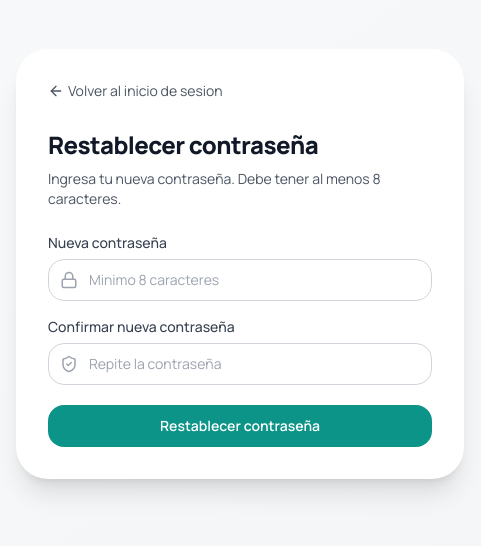
Test case: ResetPassword › valida que las contrasenas coincidan
Type "password1" into the password field labelled "Nueva contraseña" at x=240, y=280, box [48,259,432,301]
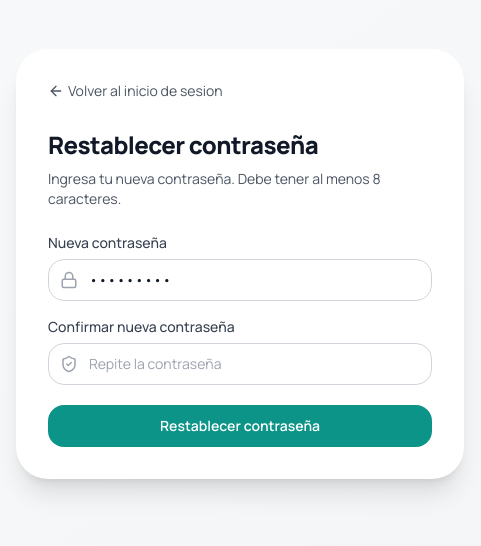
Type "password2" into the password field labelled "Confirmar nueva contraseña" at x=240, y=364, box [48,343,432,385]
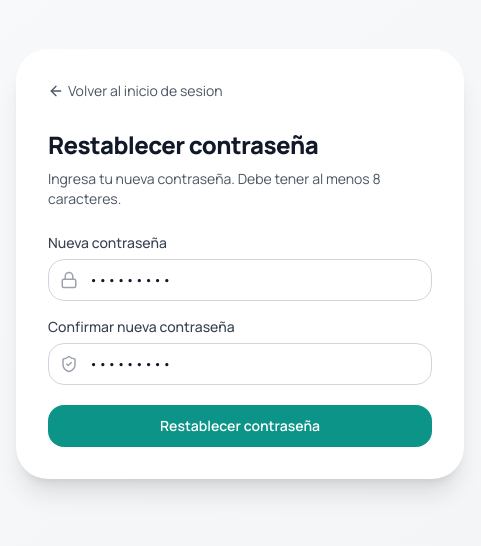
Click the button "Restablecer contraseña" at x=240, y=426, box [48,405,432,447]
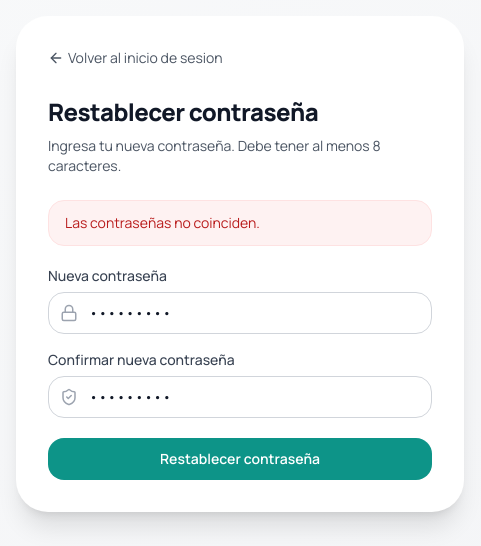
Expected: the message shows "Las contraseñas no coinciden", [65,213,260,232]
